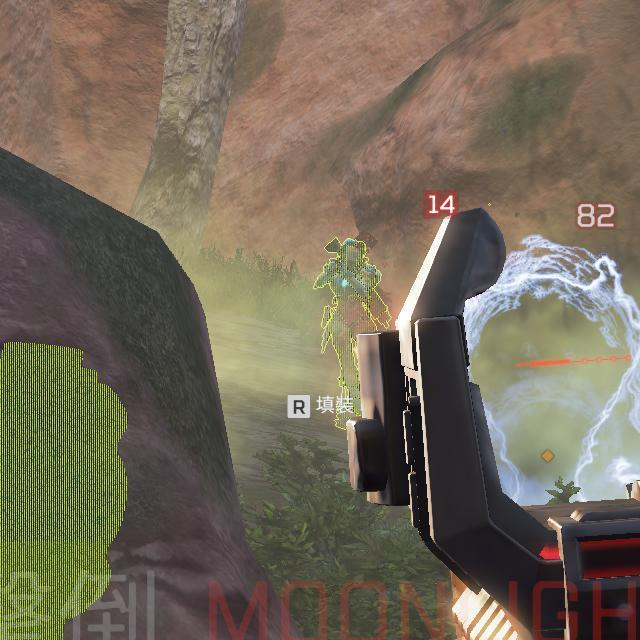avatar: (312, 236, 384, 432)
